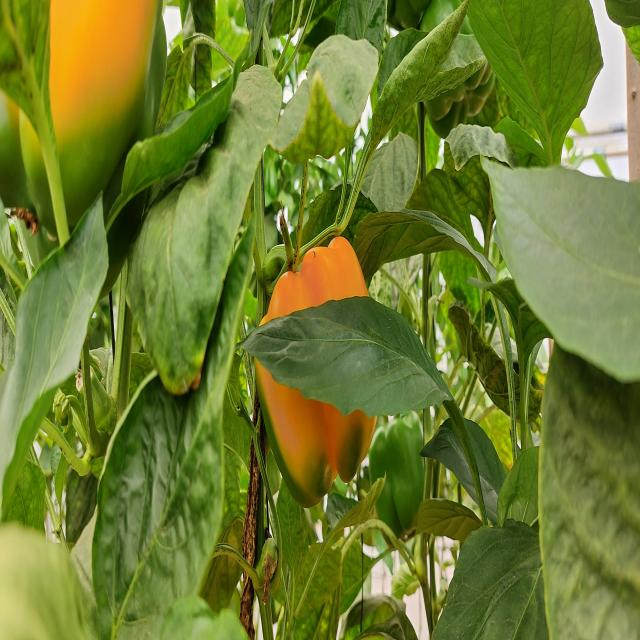GreenishYellow--Can-be-Harvested: (0, 1, 167, 244), (245, 238, 389, 493)
